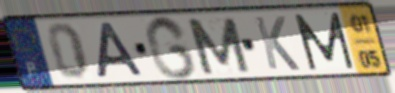0: (46, 21, 92, 83)
A: (94, 21, 148, 80)
G: (142, 14, 199, 82)
K: (251, 14, 303, 73)
M: (183, 15, 253, 76), (291, 10, 358, 73)
